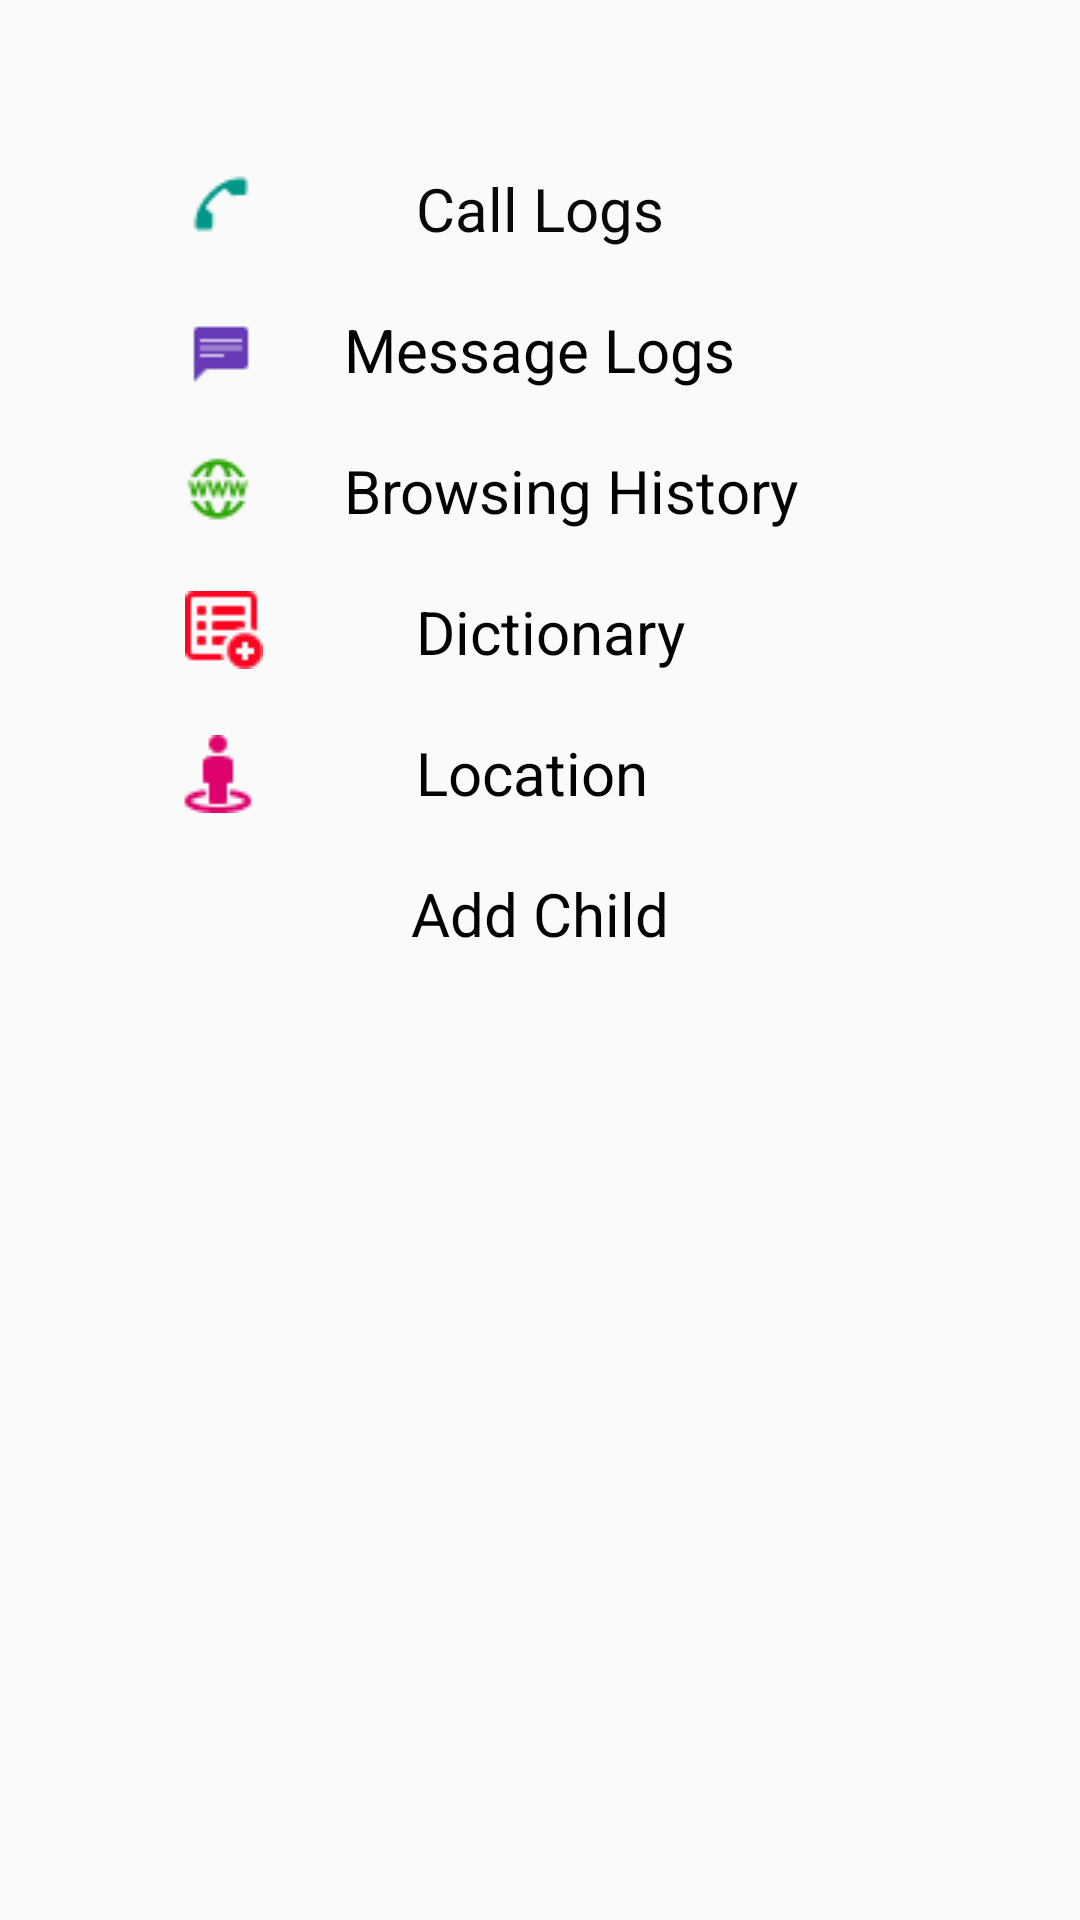

Icon bounding boxes for this 1080 × 1920 phone screenshot, format rect(x1, y1, x2, y2):
browser: rect(187, 458, 249, 520)
location: rect(184, 735, 252, 813)
phone: rect(193, 176, 249, 232)
